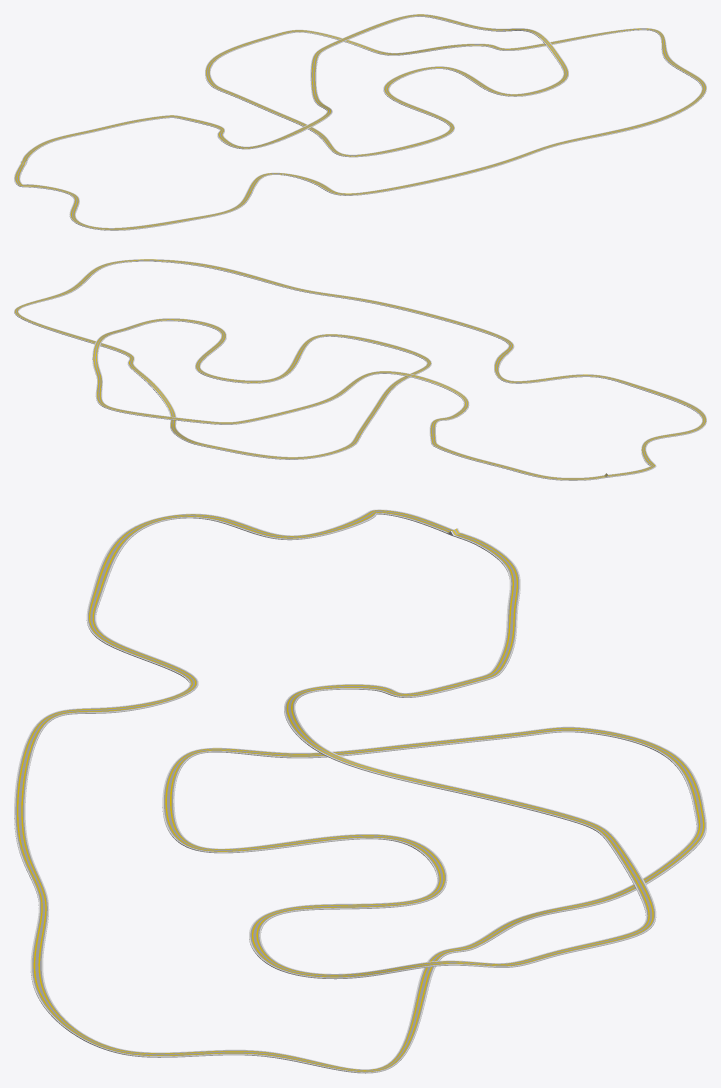
File: Track.fbx
The picture shows the model from 3 angles, top to bottom: view 1: azimuth 30°, elevation 25°; view 2: azimuth 150°, elevation 25°; view 3: azimuth 270°, elevation 25°; orthographic projection. The views are drawn at different scales.
Parts seen in each view (by area): view 1: loftedSurface2; view 2: loftedSurface2; view 3: loftedSurface2.
Boxes of the visible parts, <box> form: loftedSurface2: <box>14,14,706,230</box>; loftedSurface2: <box>14,259,706,480</box>; loftedSurface2: <box>14,509,706,1073</box>.
Size of the model in its own units: 606 by 21.9 by 315.
